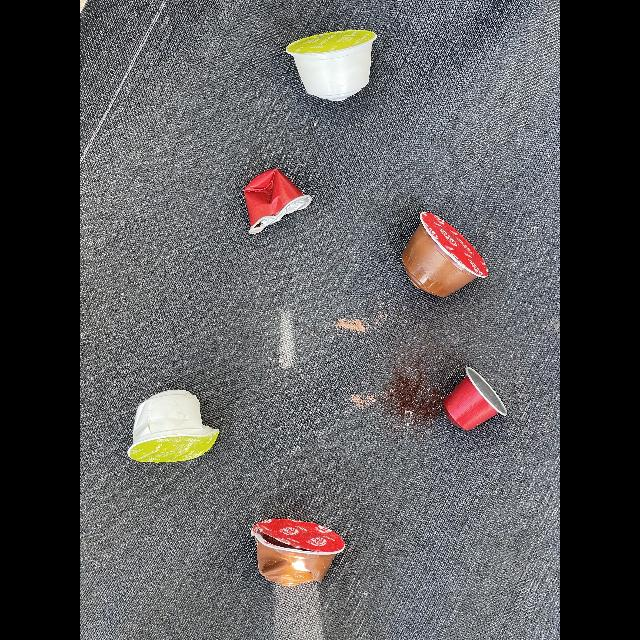damaged_capsule: (121, 381, 227, 467), (248, 514, 356, 590), (240, 156, 320, 240)
intact_capsule: (392, 206, 496, 304), (278, 24, 388, 110), (428, 358, 514, 438)
